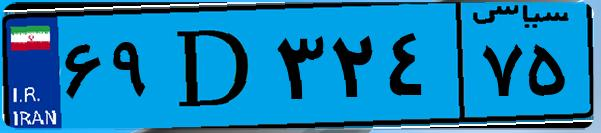2: (330, 28, 385, 110)
3: (270, 28, 330, 110)
4: (385, 28, 445, 110)
5: (525, 38, 570, 115)
6: (57, 26, 110, 100)
7: (475, 38, 525, 113)
9: (110, 28, 158, 98)
D: (158, 12, 270, 120)
